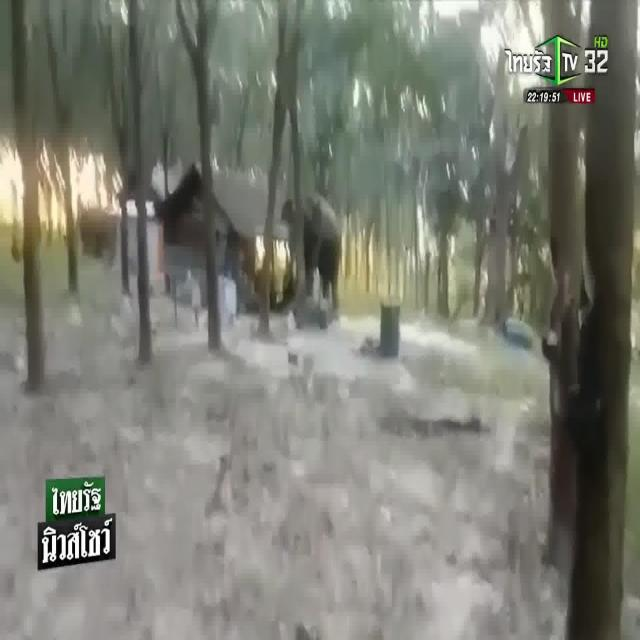Elephant: (286, 177, 342, 289)
